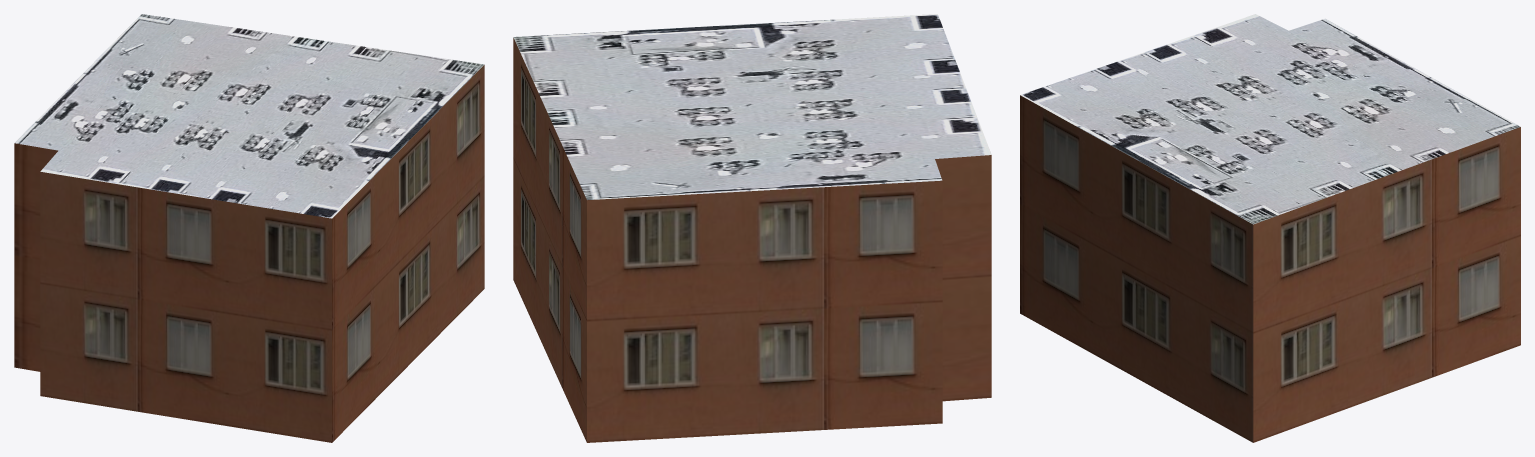
File: ResTex__35.fbx
The picture shows the model from 3 angles, left to right: view 1: azimuth 30°, elevation 25°; view 2: azimuth 150°, elevation 25°; view 3: azimuth 270°, elevation 25°; orthographic projection. The views are drawn at different scales.
Visible parts, largest first — view 1: CityEngineMaterial_20_m, CityEngineMaterial_2_m; view 2: CityEngineMaterial_20_m, CityEngineMaterial_2_m; view 3: CityEngineMaterial_20_m, CityEngineMaterial_2_m.
Boxes of the visible parts, x1,y1,x2,y2 form: CityEngineMaterial_20_m: (14,65,484,442); CityEngineMaterial_2_m: (14,14,484,218); CityEngineMaterial_20_m: (513,38,991,442); CityEngineMaterial_2_m: (513,14,991,199); CityEngineMaterial_20_m: (1020,95,1520,442); CityEngineMaterial_2_m: (1020,14,1520,224).
Bounding box in the file's own units: 12.41 × 6 × 12.47.
Materials: 2 (2 with a texture image).
